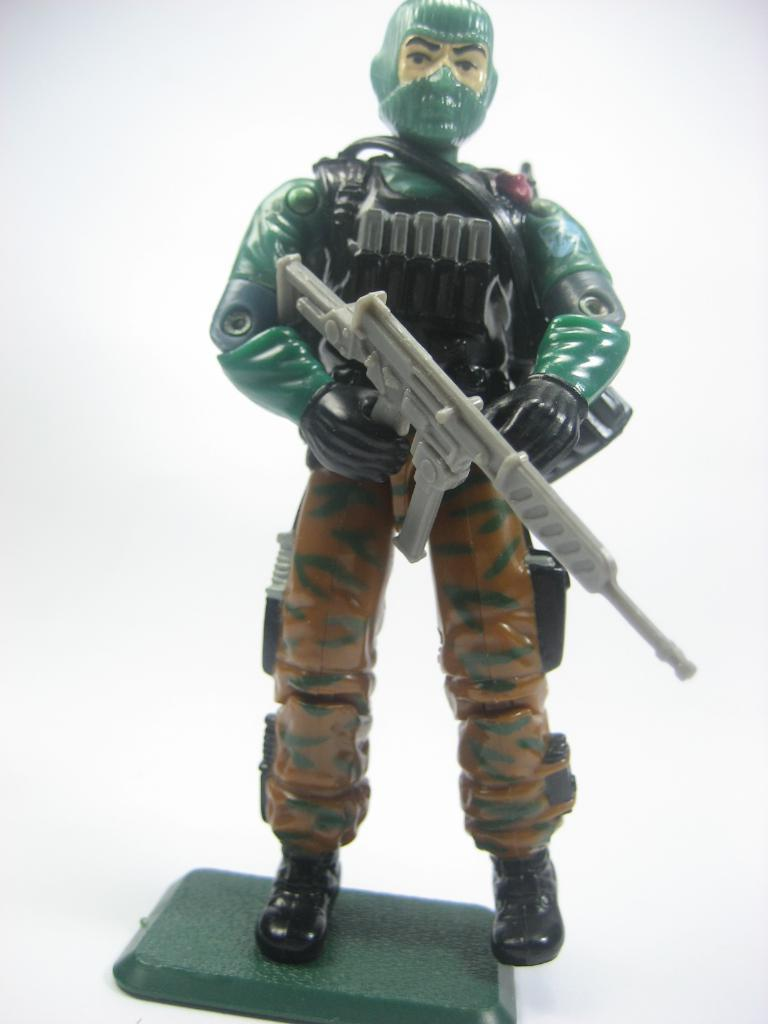Rifle: (251, 209, 689, 689)
